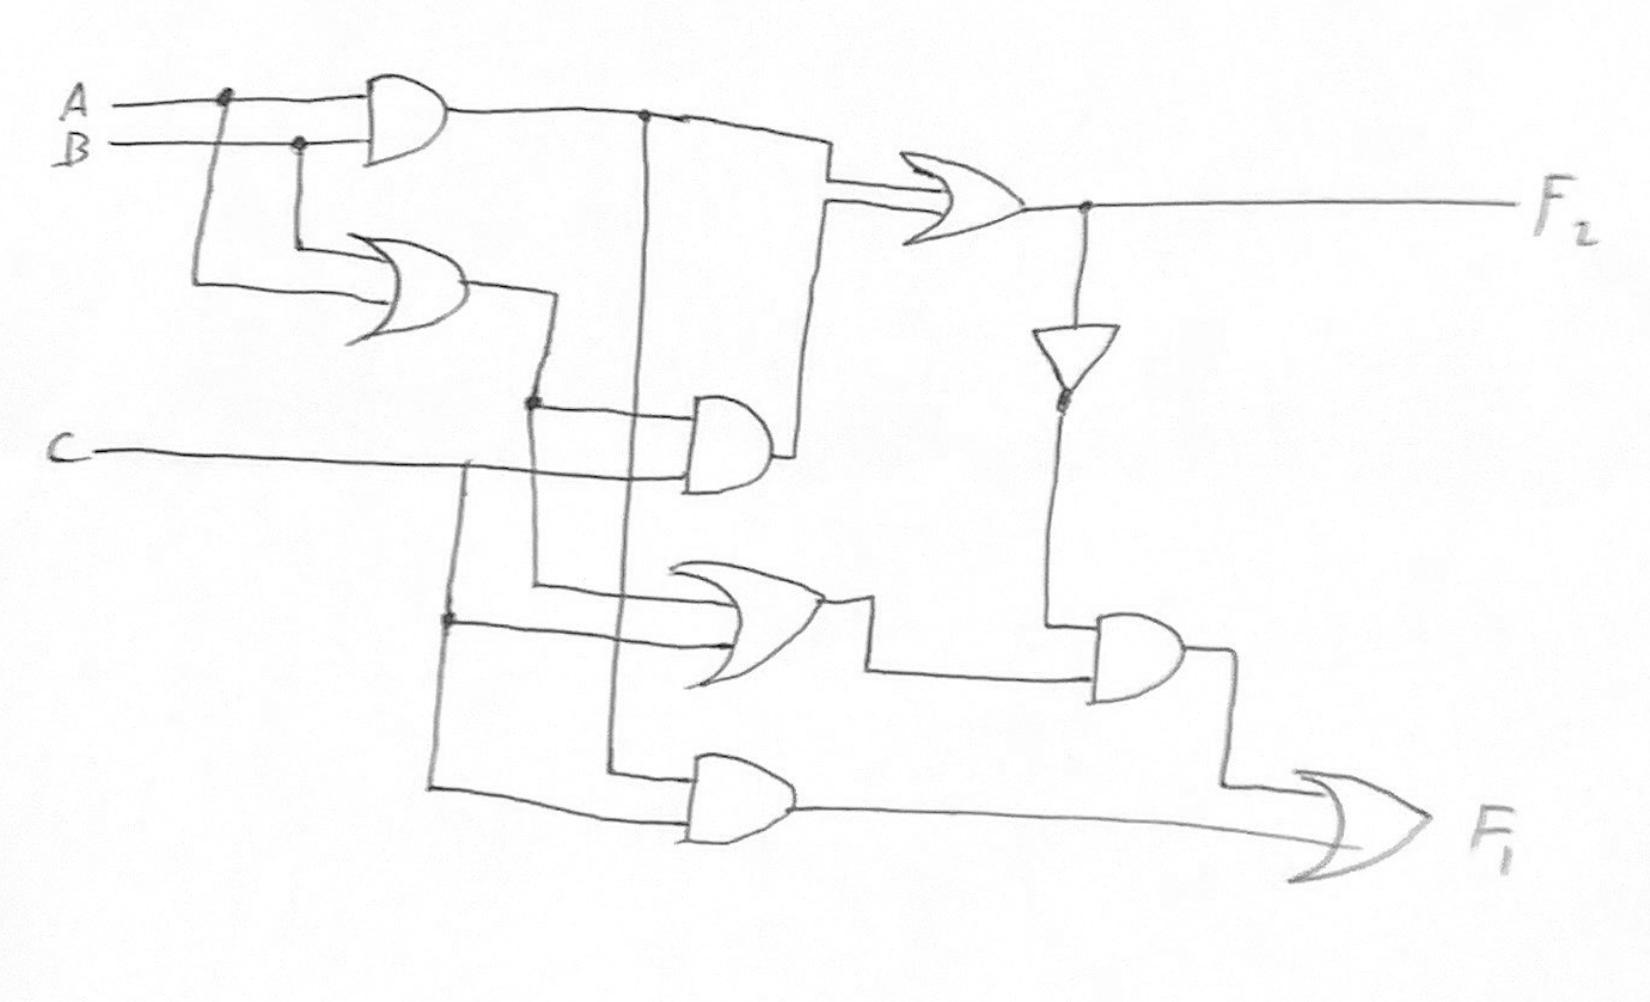AND: (674, 730, 817, 862), (1078, 586, 1200, 727), (346, 62, 471, 183), (678, 376, 786, 509)
NOT: (1018, 310, 1135, 422)
OR: (656, 540, 841, 694), (1282, 749, 1444, 910), (884, 130, 1043, 266), (332, 220, 482, 363)
